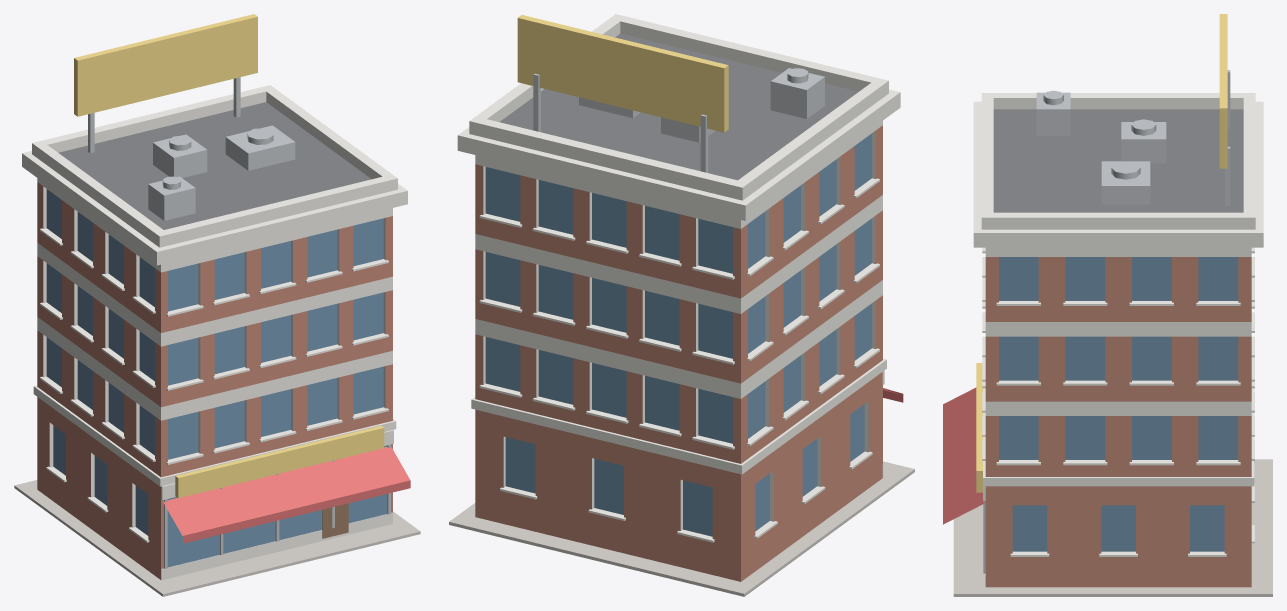
3 renders of one model, left to right at view 1: azimuth 30°, elevation 25°; view 2: azimuth 150°, elevation 25°; view 3: azimuth 270°, elevation 25°, orthographic. The views are drawn at different scales.
Visible parts, largest first — view 1: c_2_1_a; view 2: c_2_1_a; view 3: c_2_1_a.
Part boxes in pixels (left/top/right/bottom): c_2_1_a: left=14, top=14, right=420, bottom=596; c_2_1_a: left=449, top=14, right=914, bottom=596; c_2_1_a: left=943, top=14, right=1272, bottom=596.
Bounding box in the file's own units: 12 × 19.42 × 12.4.
